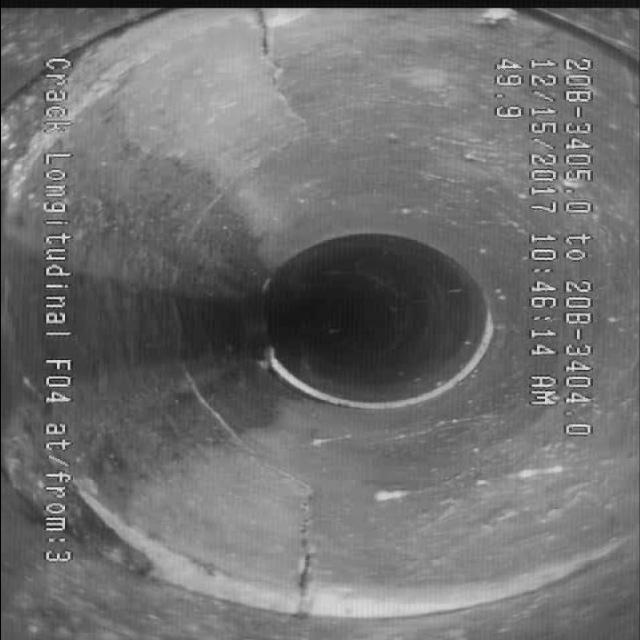Crack: (225, 14, 333, 138), (260, 484, 344, 608)
